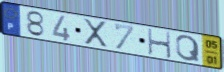4: (51, 14, 72, 43)
7: (114, 22, 136, 51)
8: (24, 10, 45, 38)
H: (146, 27, 173, 60)
Q: (174, 34, 202, 63)
X: (81, 17, 109, 49)
